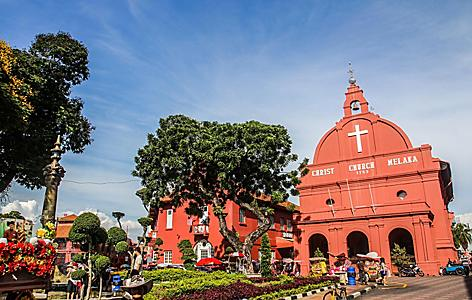Church: (284, 62, 456, 267)
